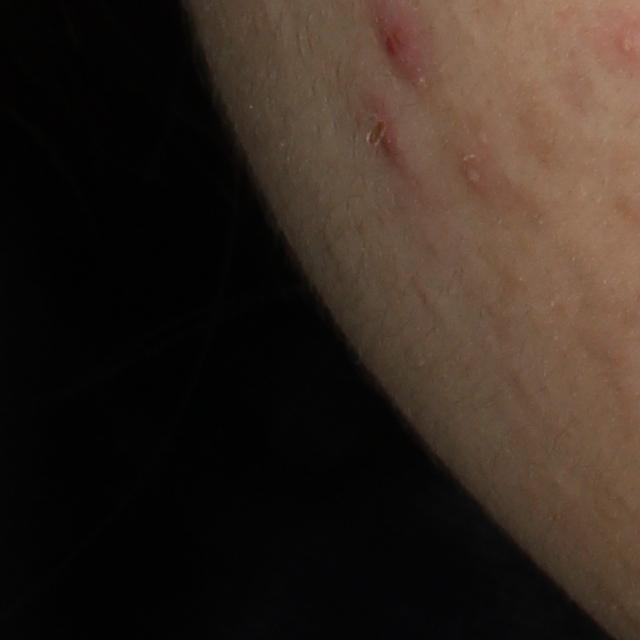papule: (355, 94, 408, 163)
